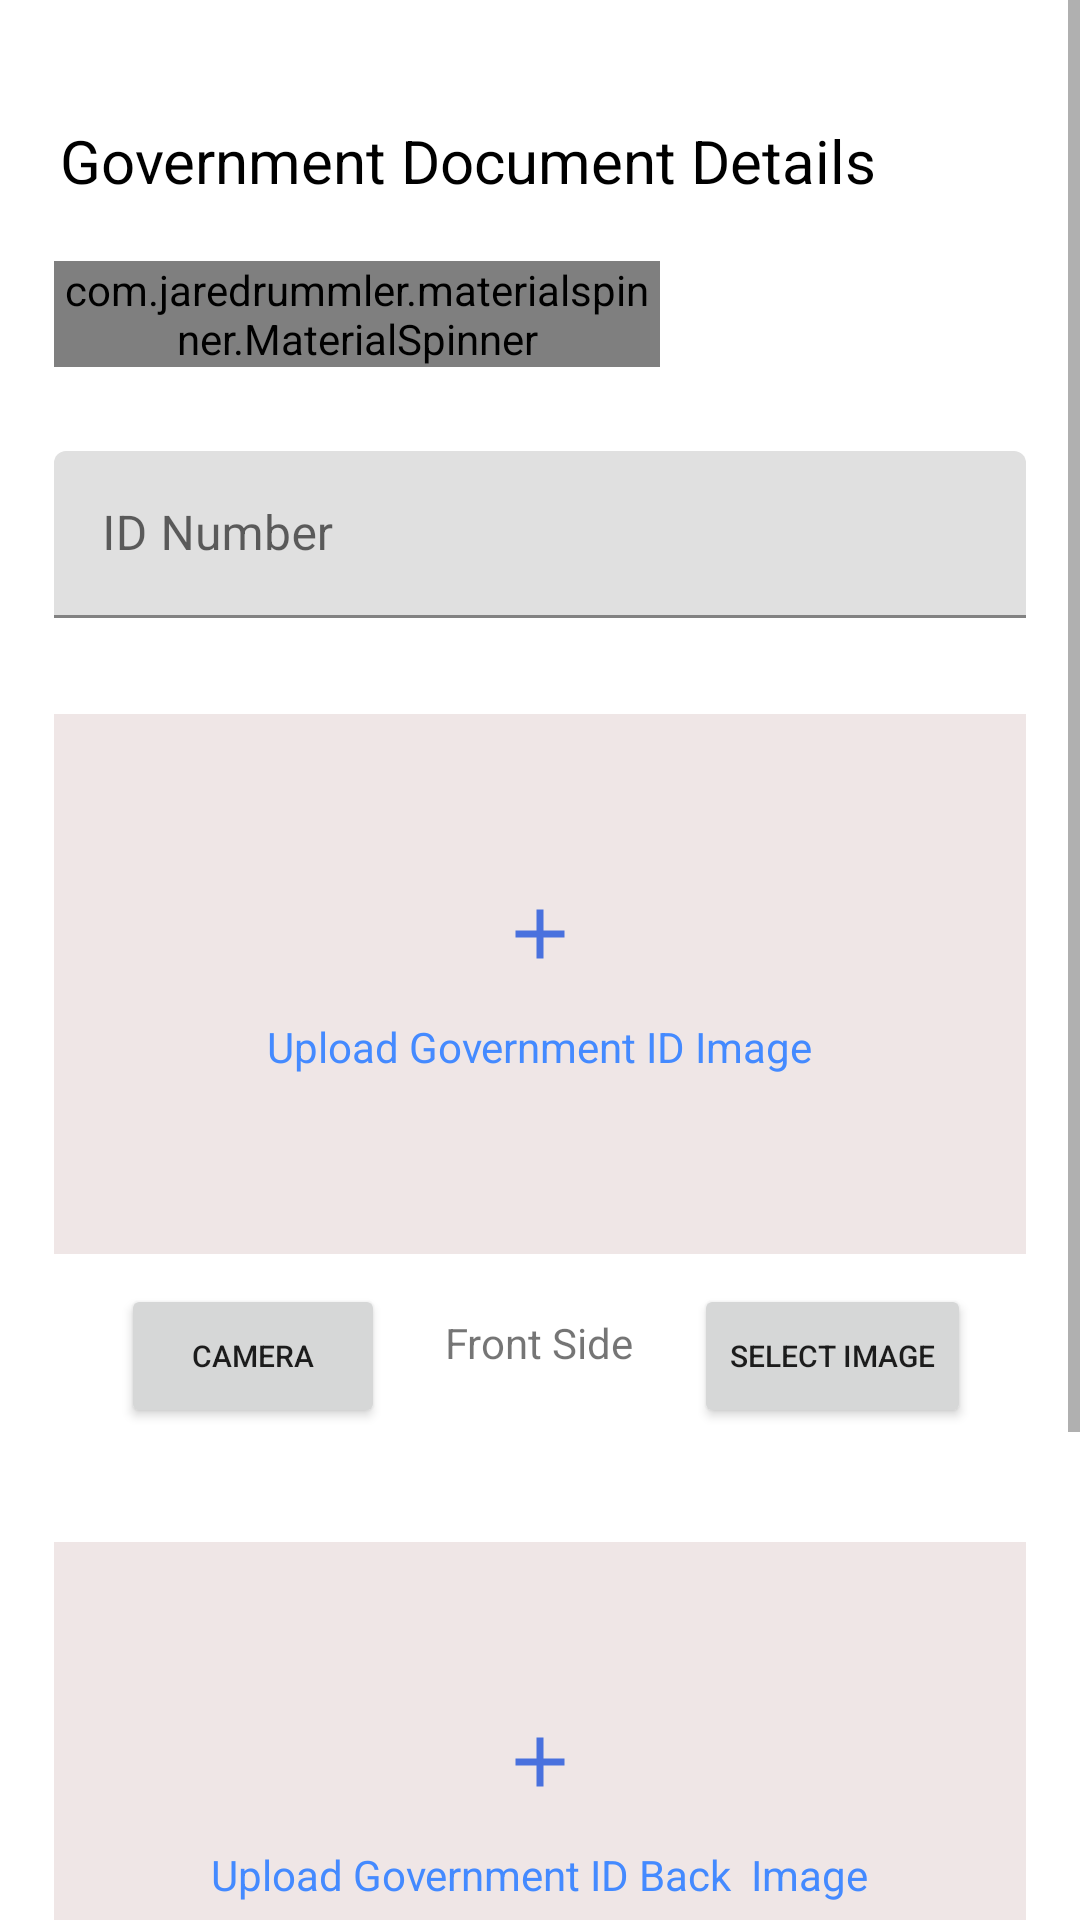

Icon click points for this 1080px×1920px phone screenshot, format (x,y):
add: (540,934), (540,1762)
